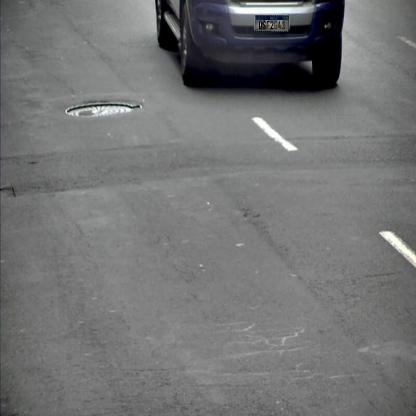PlacaM: (255, 15, 289, 32)
